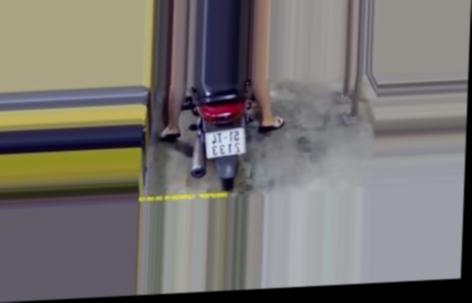License_Plate: (203, 124, 250, 162)
